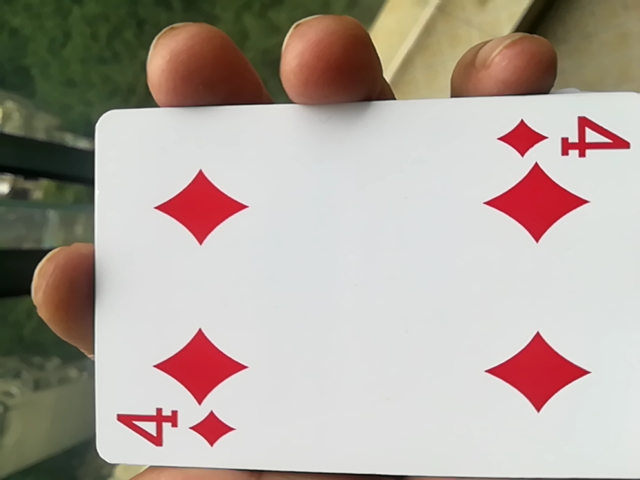fk 4: (81, 97, 636, 480)
